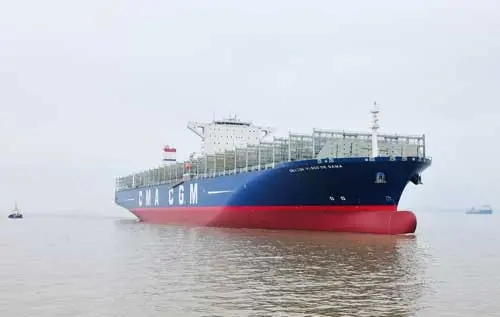Cargoship: (110, 101, 431, 229)
